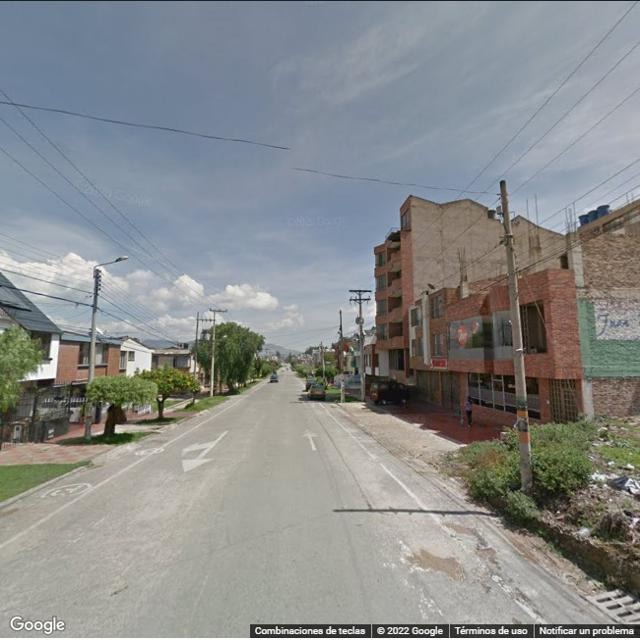D40: (409, 545, 465, 585), (451, 520, 492, 558)
